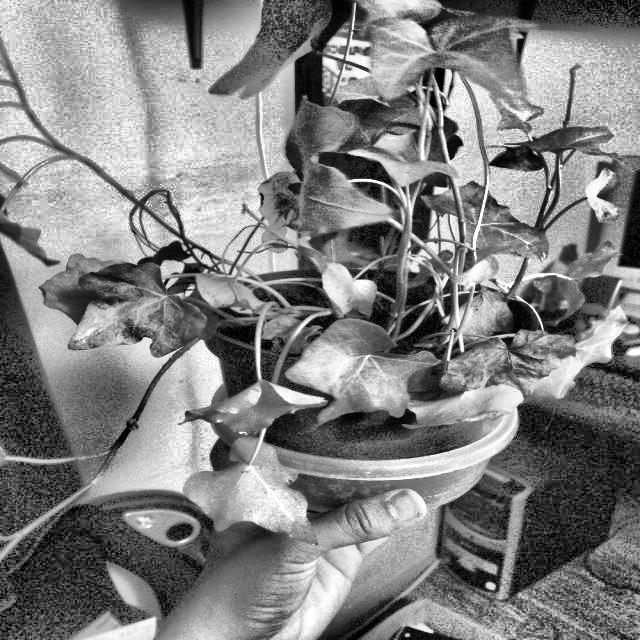plants: (0, 41, 639, 552)
